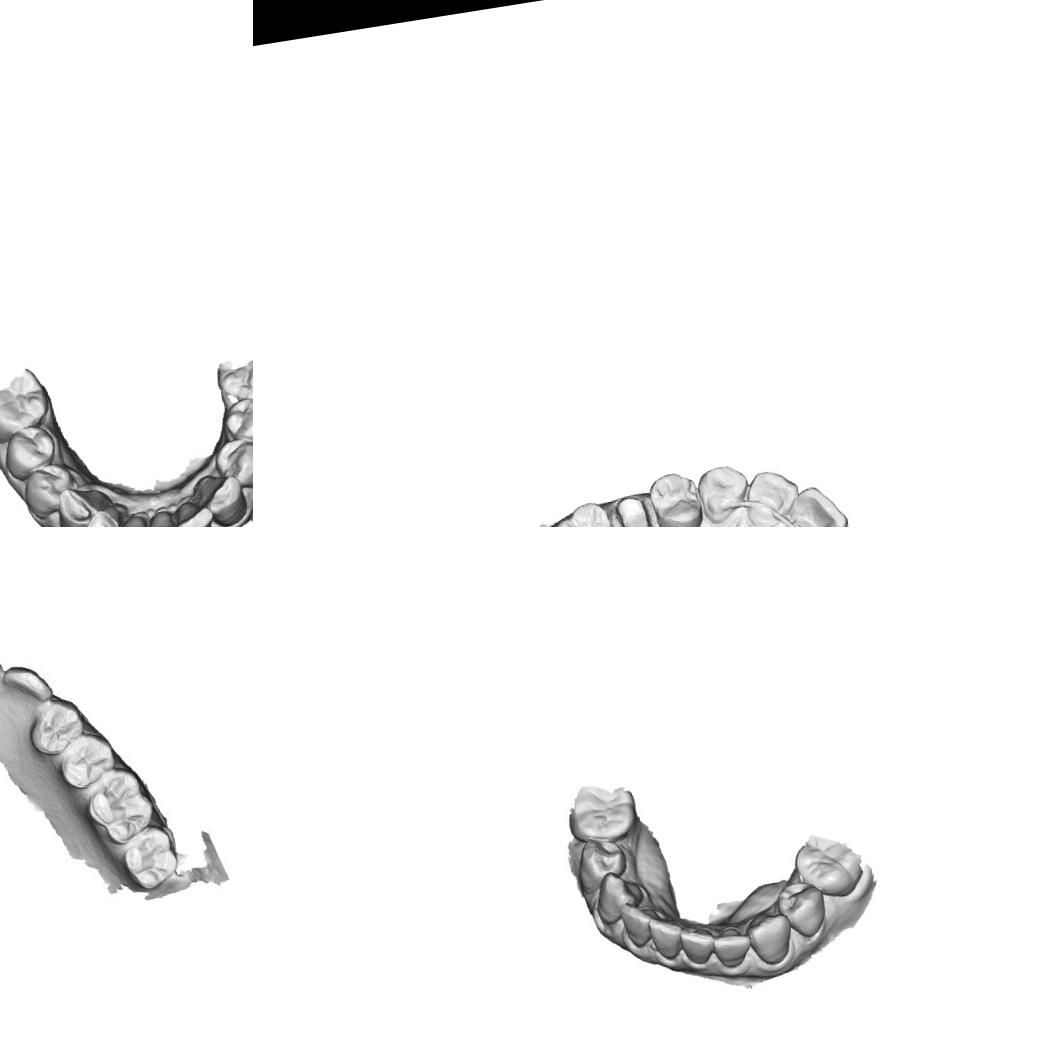canine: (693, 460, 754, 527), (190, 469, 250, 527), (590, 866, 648, 926), (742, 908, 798, 968), (0, 656, 57, 711), (53, 482, 101, 527)
crown: (613, 490, 657, 527)
incisor: (740, 464, 805, 527), (781, 481, 851, 527), (618, 898, 661, 950), (710, 922, 755, 970), (647, 913, 688, 963), (677, 921, 717, 967), (172, 497, 218, 527), (80, 503, 124, 527), (141, 508, 181, 527), (107, 513, 148, 527)
molar: (80, 766, 156, 848), (790, 829, 865, 904), (563, 779, 642, 849), (115, 826, 182, 894), (0, 363, 54, 447), (545, 496, 630, 527)
premolar: (52, 728, 120, 794), (24, 693, 92, 758), (0, 422, 61, 483), (19, 460, 78, 522), (646, 468, 707, 527), (774, 878, 830, 941), (572, 834, 631, 891), (211, 433, 253, 495), (220, 393, 253, 451)
